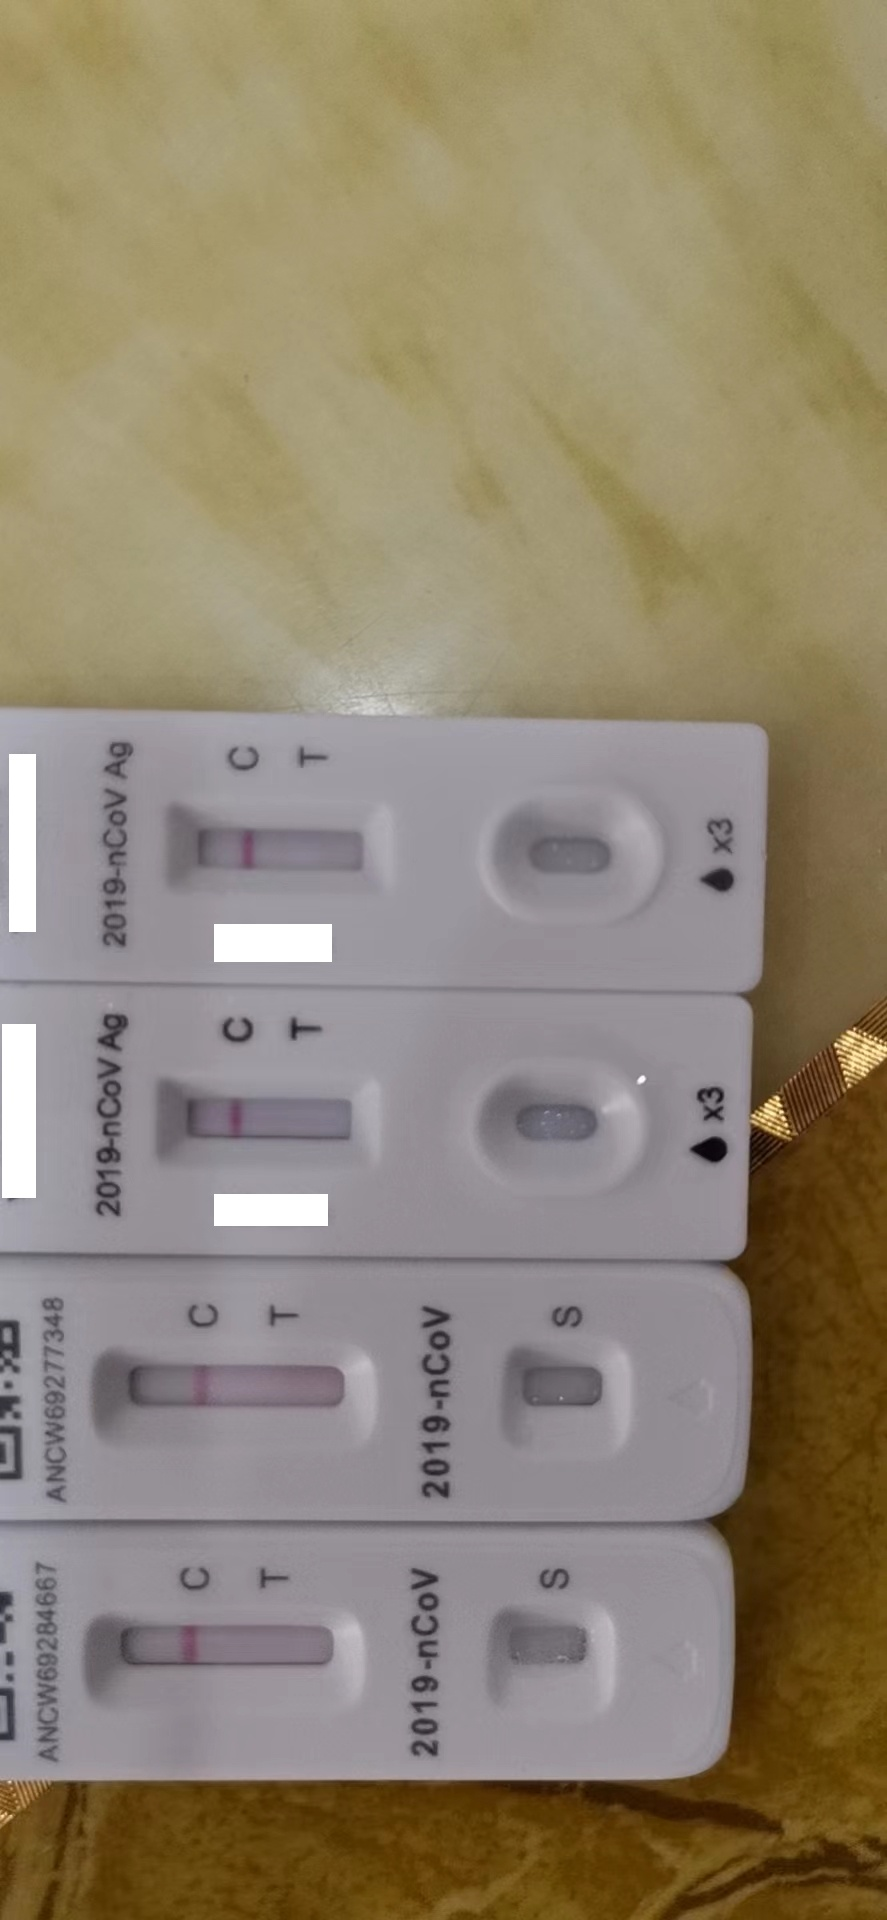negative: (85, 1615, 357, 1724), (96, 1356, 386, 1442), (160, 804, 398, 889), (149, 1082, 382, 1158)
